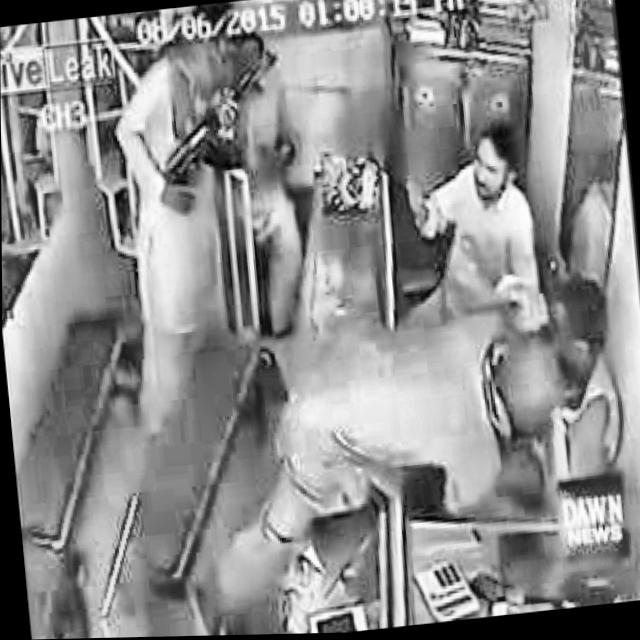robbery: (189, 271, 636, 612), (95, 0, 321, 448), (396, 119, 537, 247)
